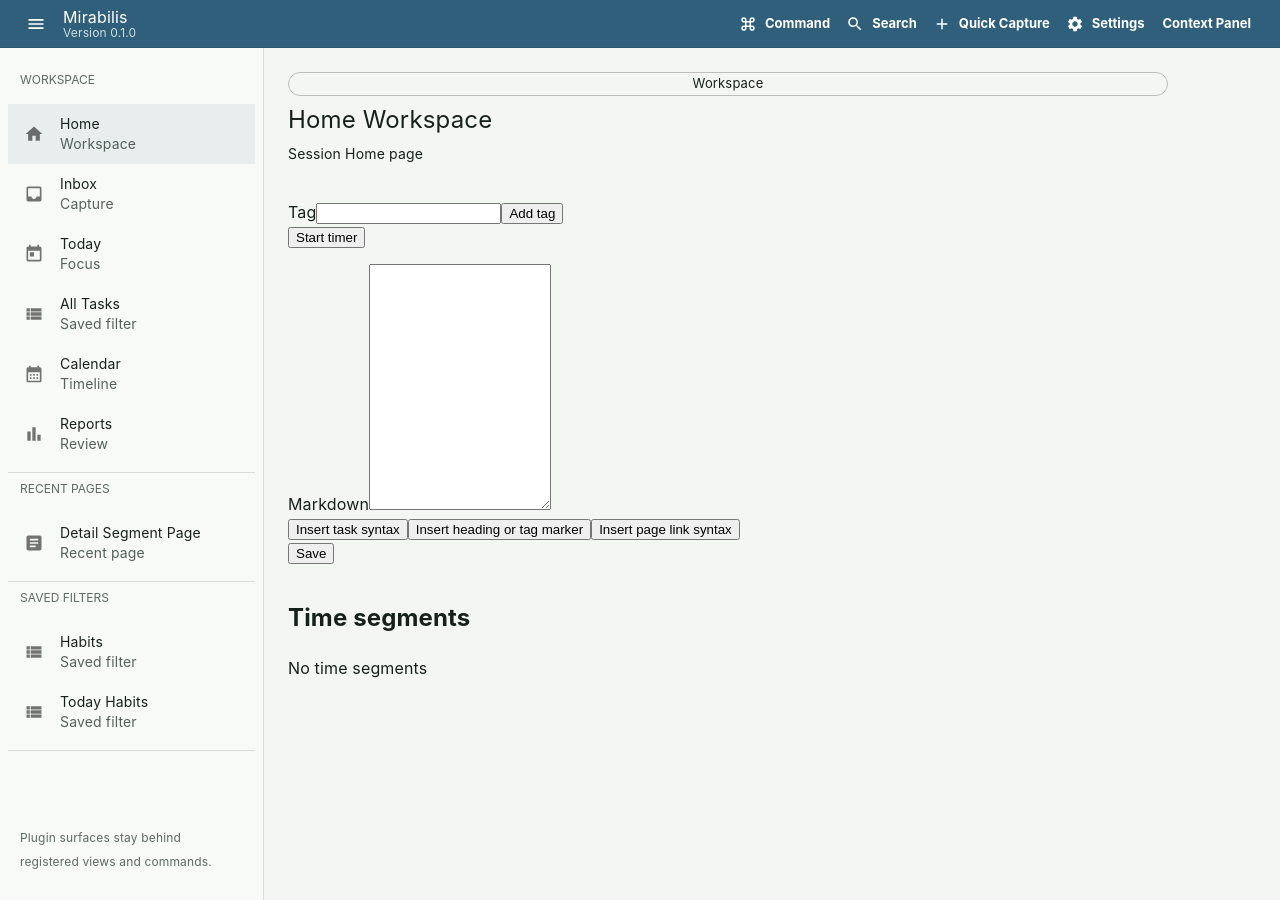
Test: TASK-042 Calendar route › opens segment detail through a narrow Calendar command bridge with an exact payload
The width and height of the screenshot is (1280, 900).
Click the button "Calendar Timeline".
click(72, 374)  # box [24,355,121,392]
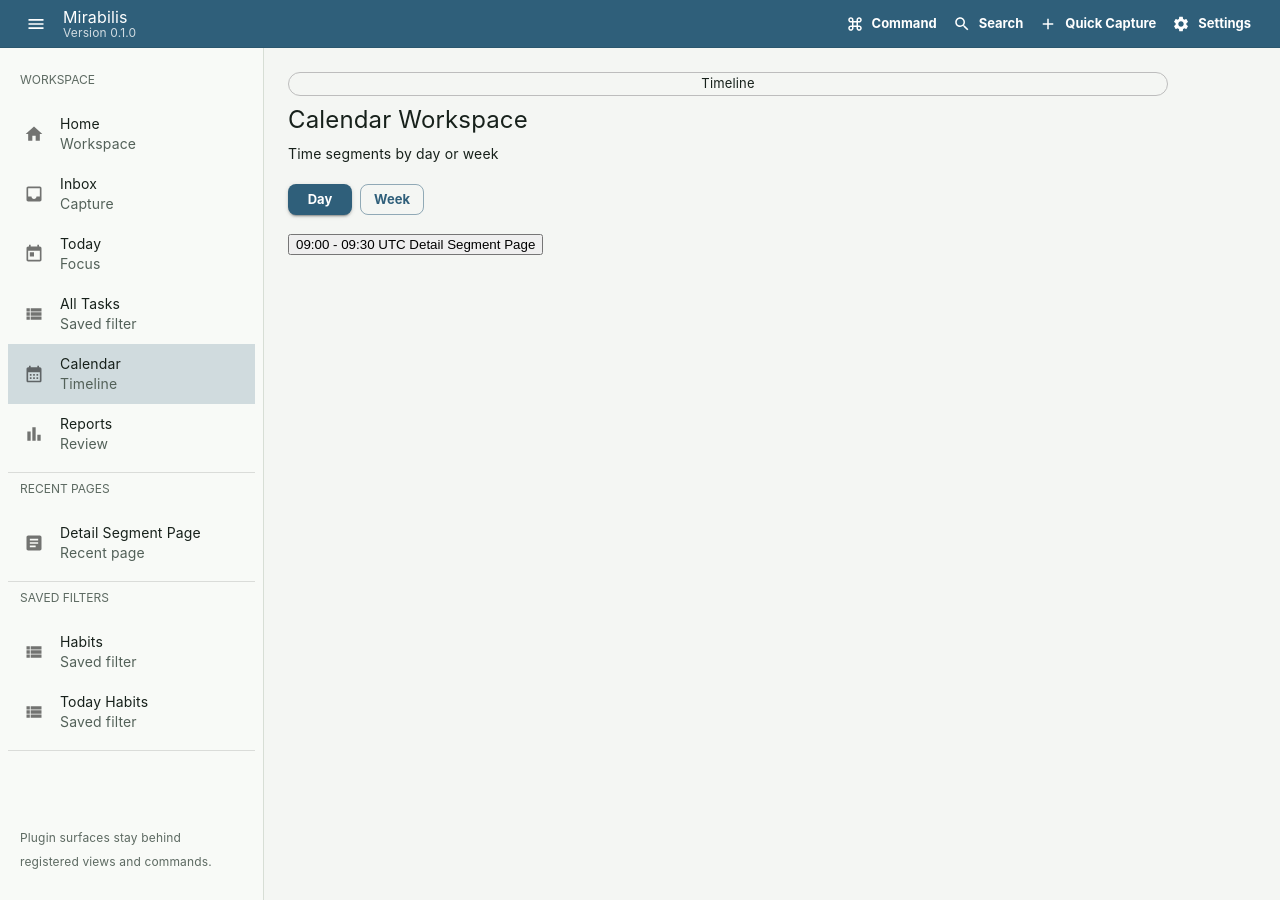
Click the button "09:00 - 09:30 UTC Detail Segment Page".
click(416, 244)  # box [288,234,543,255]
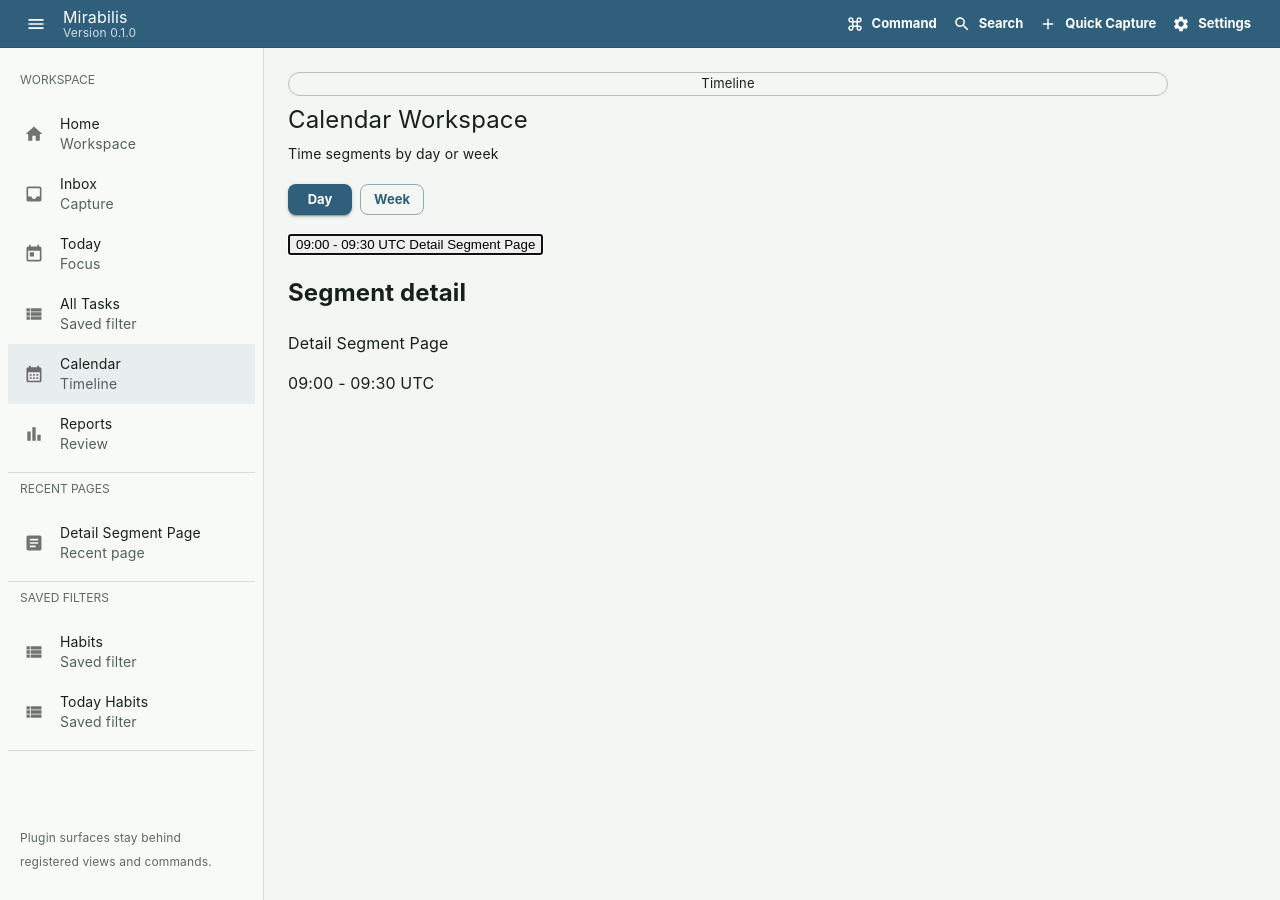
Expected: the element "Segment detail Detail Segment Page 09:00 - 09:30 UTC" is shown, [288,278,466,393]
